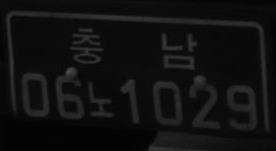0: (151, 79, 183, 126), (21, 72, 50, 118)
1: (118, 78, 145, 123)
2: (188, 81, 222, 129)
6: (55, 74, 84, 121)
9: (226, 83, 256, 131)
노: (87, 80, 114, 116)
충남_D: (71, 26, 198, 69)
